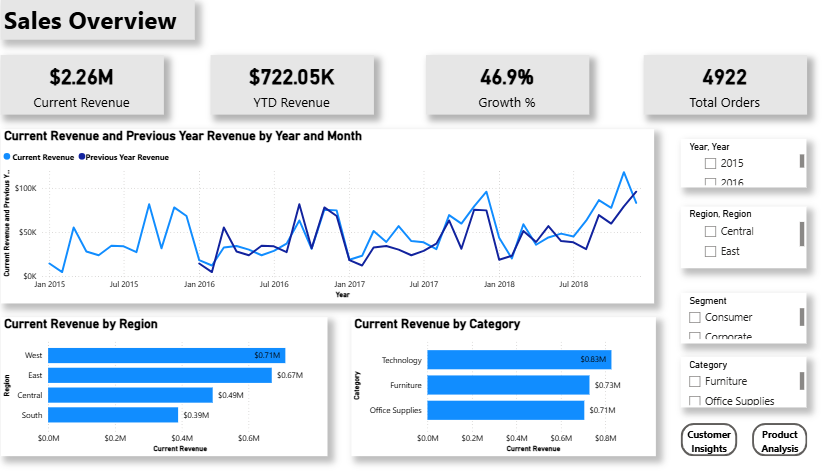

This screenshot's page, from the dashboard's own definition file:
{"tool":"powerbi","page":{"name":"Overview","canvas":[1280,720],"ordinal":0},"visuals":[{"type":"card","fields":{"Values":["Orders.Total Revenue"]},"box":[22,84,250,92],"z":0},{"type":"card","fields":{"Values":["Orders.YTD Revenue"]},"box":[342,84,250,92],"z":1000},{"type":"card","fields":{"Values":["Orders.Growth %"]},"box":[670,84,250,92],"z":2000},{"type":"card","fields":{"Values":["Orders.Total Orders"]},"box":[1002,84,250,92],"z":3000},{"type":"lineChart","fields":{"Y":["Orders.Total Revenue","Orders.Sales Last Year"],"Category":["Date Table.Date.Variation.Date Hierarchy.Year","Date Table.Date.Variation.Date Hierarchy.Month"]},"box":[22.5,196.6,996.3,264.1],"z":4000},{"type":"clusteredBarChart","fields":{"Category":["Orders.Category"],"Y":["Orders.Total Revenue"]},"box":[556.2,483.2,462.6,211.6],"z":5000},{"type":"clusteredBarChart","fields":{"Category":["Orders.Region"],"Y":["Orders.Total Revenue"]},"box":[22.5,483.2,498.2,211.6],"z":6000},{"type":"slicer","fields":{"Values":["Date Table.Year","Date Table.Year"]},"box":[1058.1,211.6,192.9,74.9],"z":7000},{"type":"slicer","fields":{"Values":["Orders.Region","Orders.Region"]},"box":[1058.1,314.6,192.9,93.6],"z":8000},{"type":"slicer","fields":{"Values":["Orders.Segment"]},"box":[1058.1,445.7,192.9,76.8],"z":9000},{"type":"slicer","fields":{"Values":["Orders.Category"]},"box":[1058.1,543.1,192.9,78.7],"z":10000},{"type":"actionButton","box":[1166.7,644.2,84.3,50.6],"z":11000},{"type":"actionButton","box":[1058.1,644.2,86.1,50.6],"z":12000},{"type":"textbox","box":[22,0,296,62],"z":14000}]}

Visuals, with their boxes in screenshot pixels (x1, y1, x2, y2), scaled from the page's 1280x720 canvas onto the 823x471 screenshot:
card - Orders.Total Revenue: 14, 55, 175, 115
card - Orders.YTD Revenue: 220, 55, 381, 115
card - Orders.Growth %: 431, 55, 592, 115
card - Orders.Total Orders: 644, 55, 805, 115
lineChart - Orders.Total Revenue x Orders.Sales Last Year: 14, 129, 655, 301
clusteredBarChart - Orders.Category x Orders.Total Revenue: 358, 316, 655, 455
clusteredBarChart - Orders.Region x Orders.Total Revenue: 14, 316, 335, 455
slicer - Date Table.Year x Date Table.Year: 680, 138, 804, 187
slicer - Orders.Region x Orders.Region: 680, 206, 804, 267
slicer - Orders.Segment: 680, 292, 804, 342
slicer - Orders.Category: 680, 355, 804, 407
actionButton: 750, 421, 804, 455
actionButton: 680, 421, 736, 455
textbox: 14, 0, 204, 41
